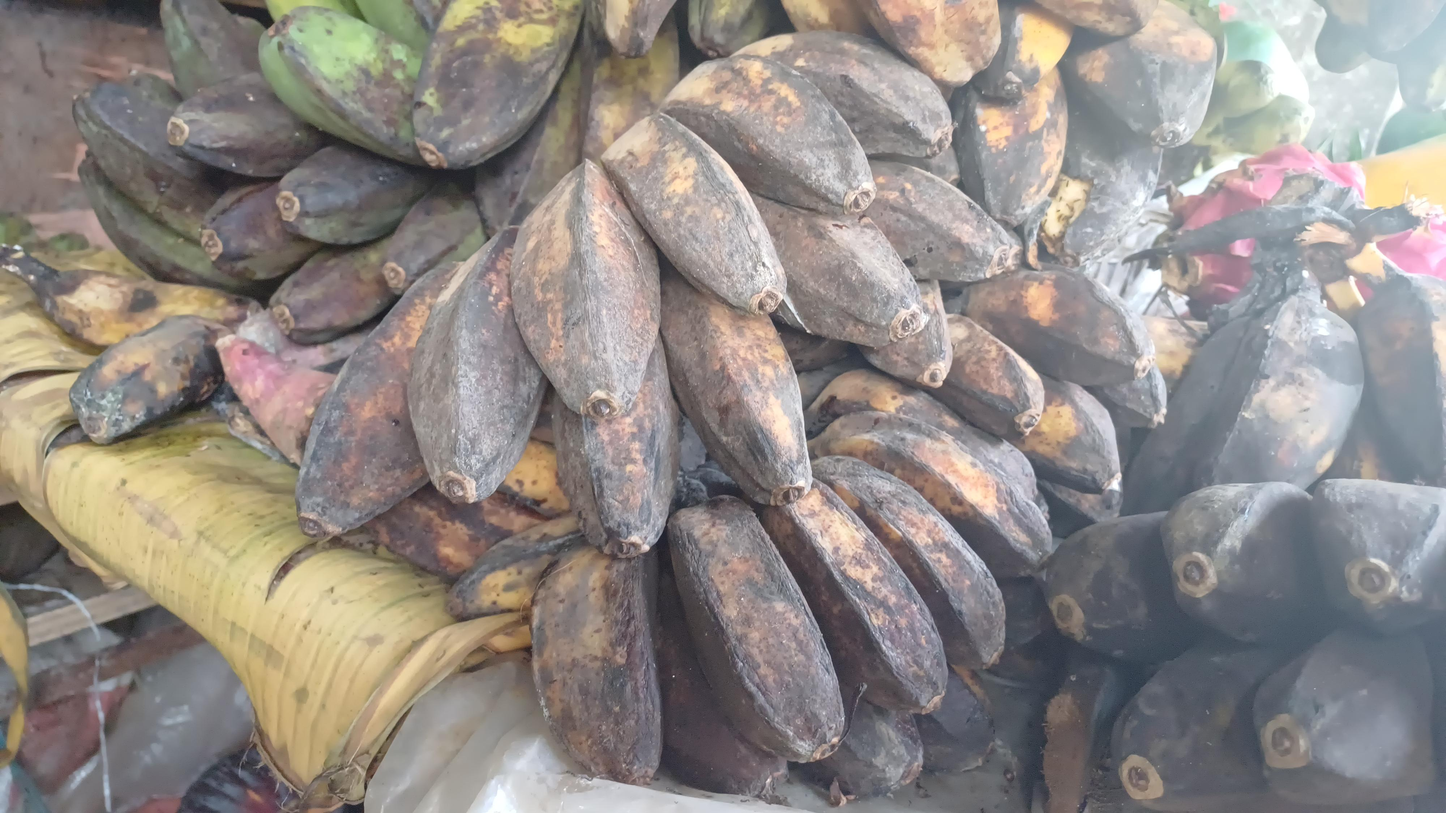overripe: (294, 33, 1019, 561), (530, 368, 1067, 800), (1048, 480, 1446, 807), (781, 0, 1220, 271), (1117, 272, 1446, 514), (930, 270, 1167, 537)
underripe: (165, 68, 488, 348), (411, 0, 784, 242), (71, 72, 276, 307), (254, 0, 450, 174), (160, 0, 266, 100)
